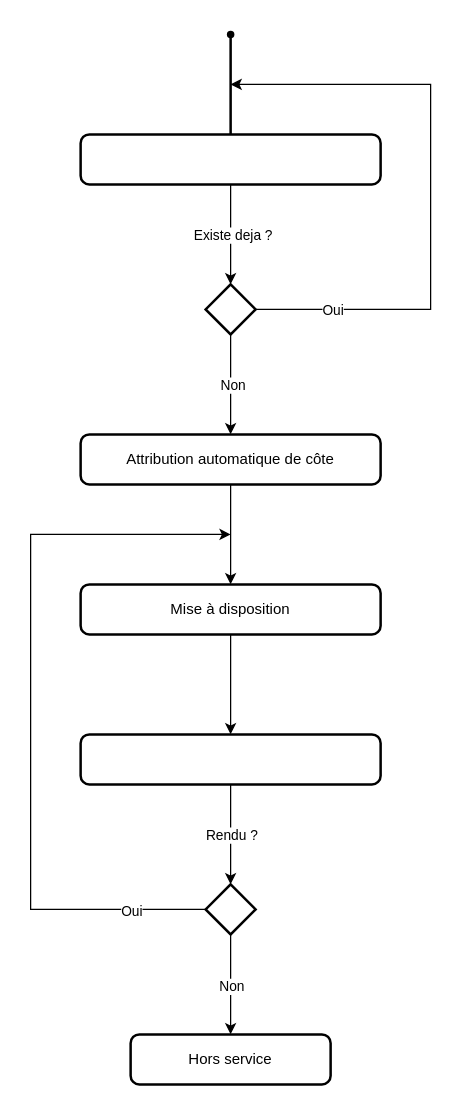
This 463x1108 diagram has some shape labels left out. Here are the shapes that lost their labels. From the top down, the centre of each, then its label:
At [230,158]: "Saisie les informations".
At [230,758]: "Emprunt".
